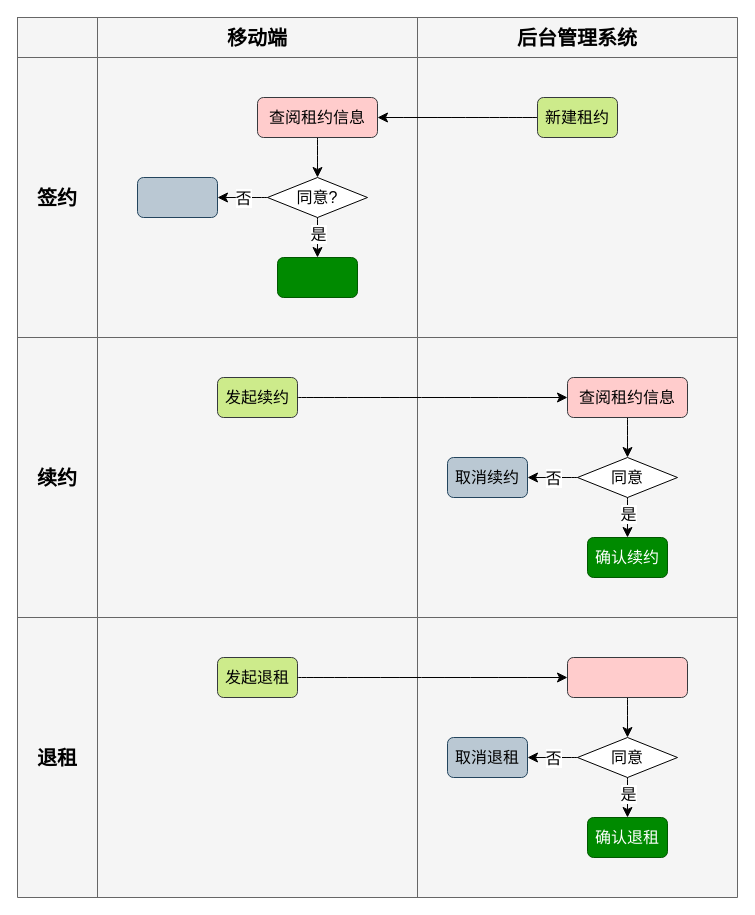
The diagram is 755 pixels wide and 915 high, and some of its shapes have lost their labels. The box of each missing label's shape, as (x1, y1, x2, y2) in pixels:
取消签约: (136, 176, 218, 218)
审核退租信息: (566, 656, 688, 698)
确认签约: (276, 256, 358, 298)
